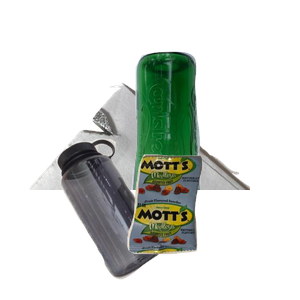glass: (129, 49, 300, 229)
paper: (10, 10, 250, 190)
plastic: (54, 136, 209, 300)
trash: (125, 152, 300, 300)
